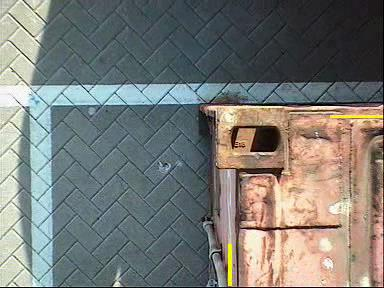groundmarker_2: (137, 155, 200, 190), (141, 5, 199, 40)
